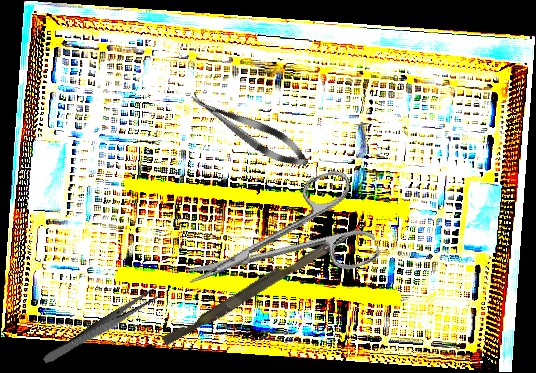Dressing Forceps: (41, 285, 162, 369)
Iris Scissors: (171, 164, 382, 321)
Micro Scissor: (184, 84, 315, 176)
Pusher: (161, 218, 361, 352)
